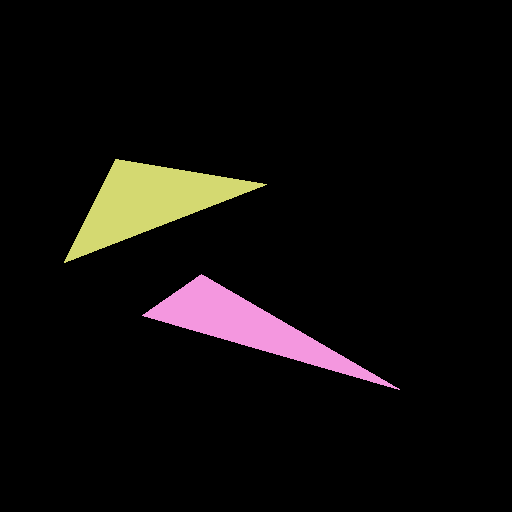triangle: (142, 274, 399, 389), (64, 159, 266, 262)
